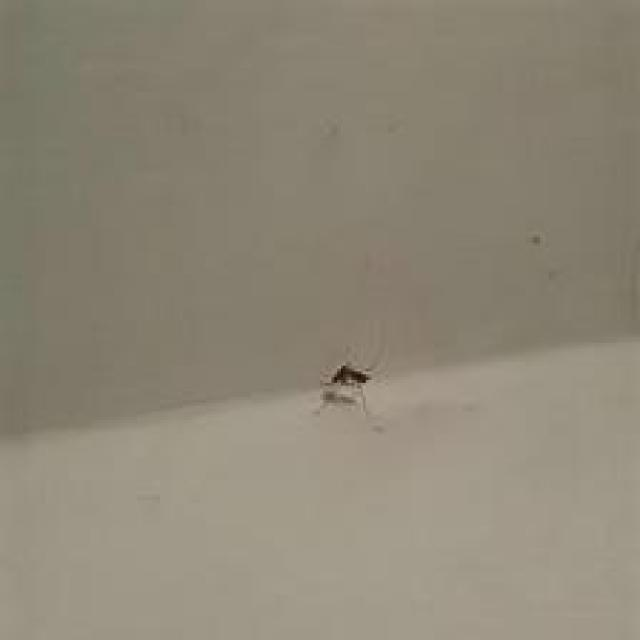Culex: (316, 361, 373, 416)
